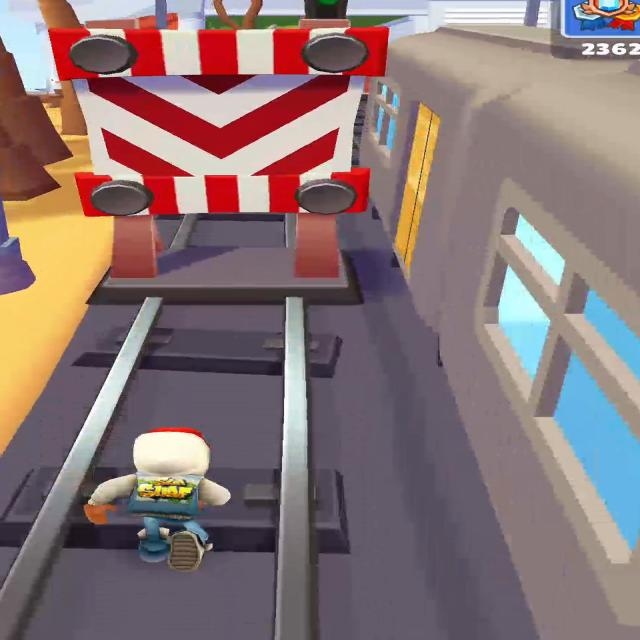jump-barrier: (50, 27, 388, 284)
train: (361, 27, 639, 640), (363, 24, 639, 632)
